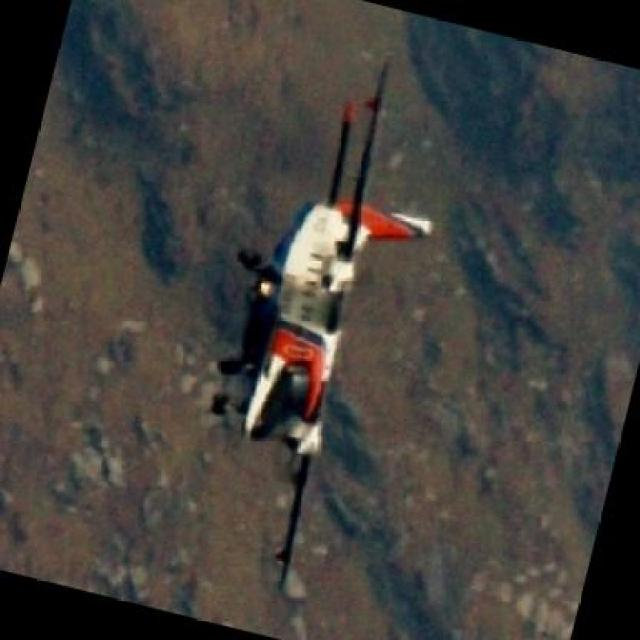iha: (195, 46, 438, 602)
